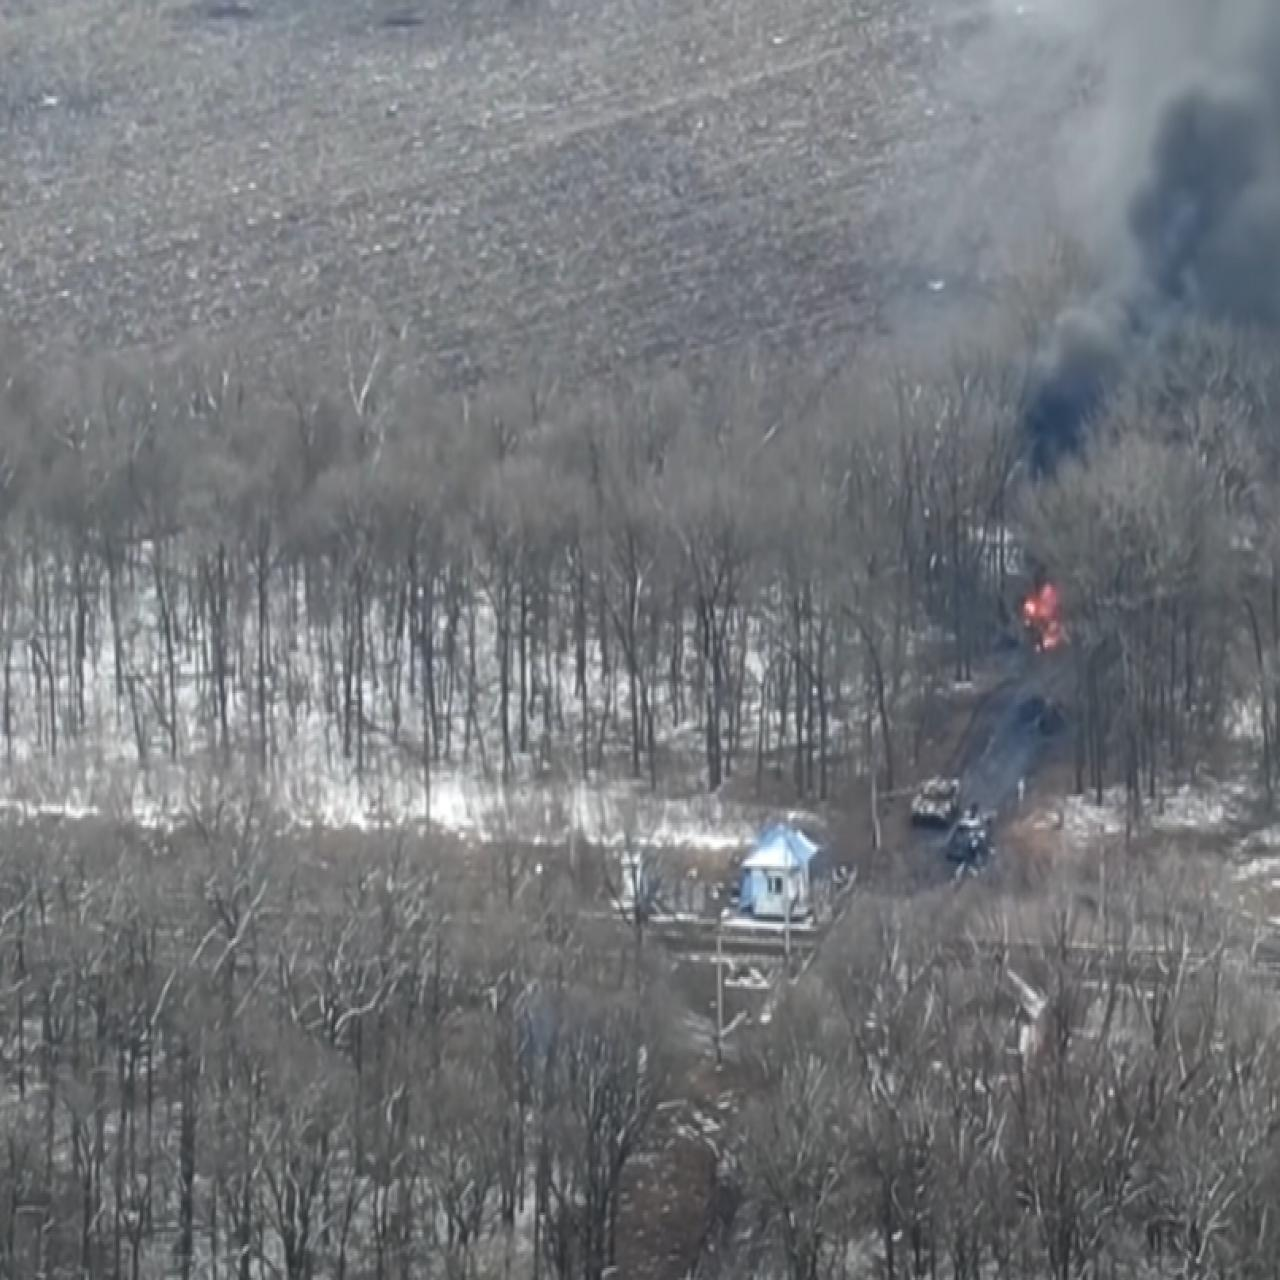MIL_Veh: (862, 765, 956, 829)
